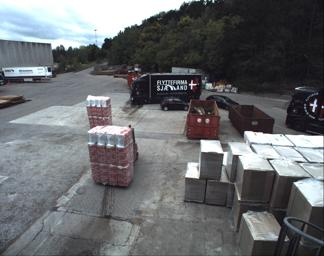rockwool_batts: (86, 125, 134, 186), (85, 93, 112, 128)
